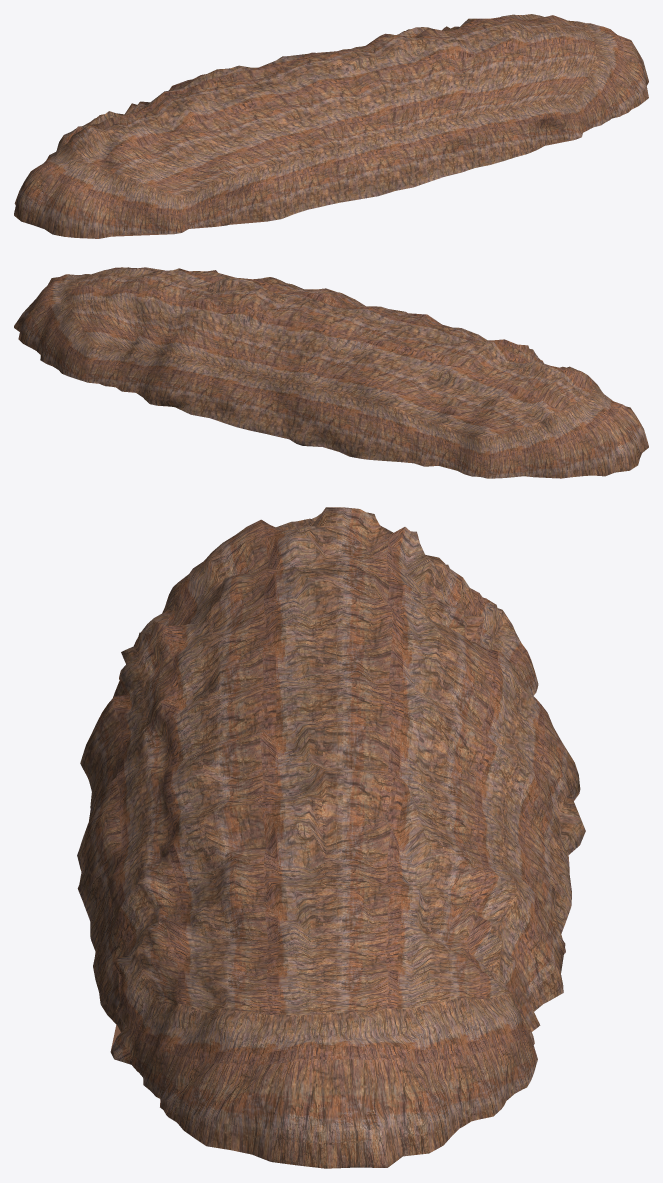
The model's file is mountain1.fbx.
3 renders of one model, top to bottom at view 1: azimuth 30°, elevation 25°; view 2: azimuth 150°, elevation 25°; view 3: azimuth 270°, elevation 25°, orthographic. The views are drawn at different scales.
Parts seen in each view (by area): view 1: mountain; view 2: mountain; view 3: mountain.
Boxes of the visible parts, bbox=[...] form: mountain: bbox=[14, 14, 648, 238]; mountain: bbox=[14, 267, 648, 478]; mountain: bbox=[77, 507, 585, 1168].
Size of the model in its own units: 398 by 52.91 by 144.
